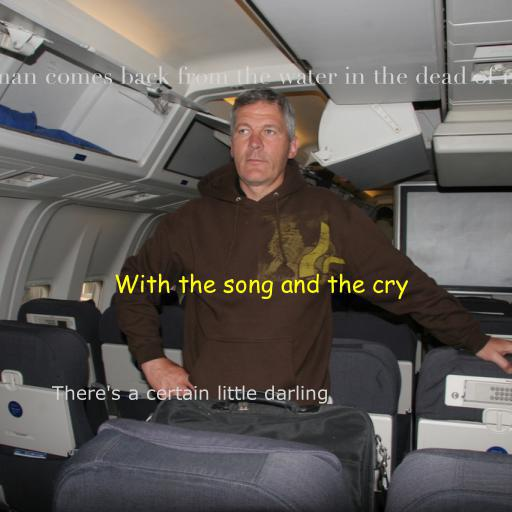Comic Sans MS: (114, 273, 408, 300)
Didot: (0, 66, 512, 91)
Verdana: (51, 385, 329, 404)
